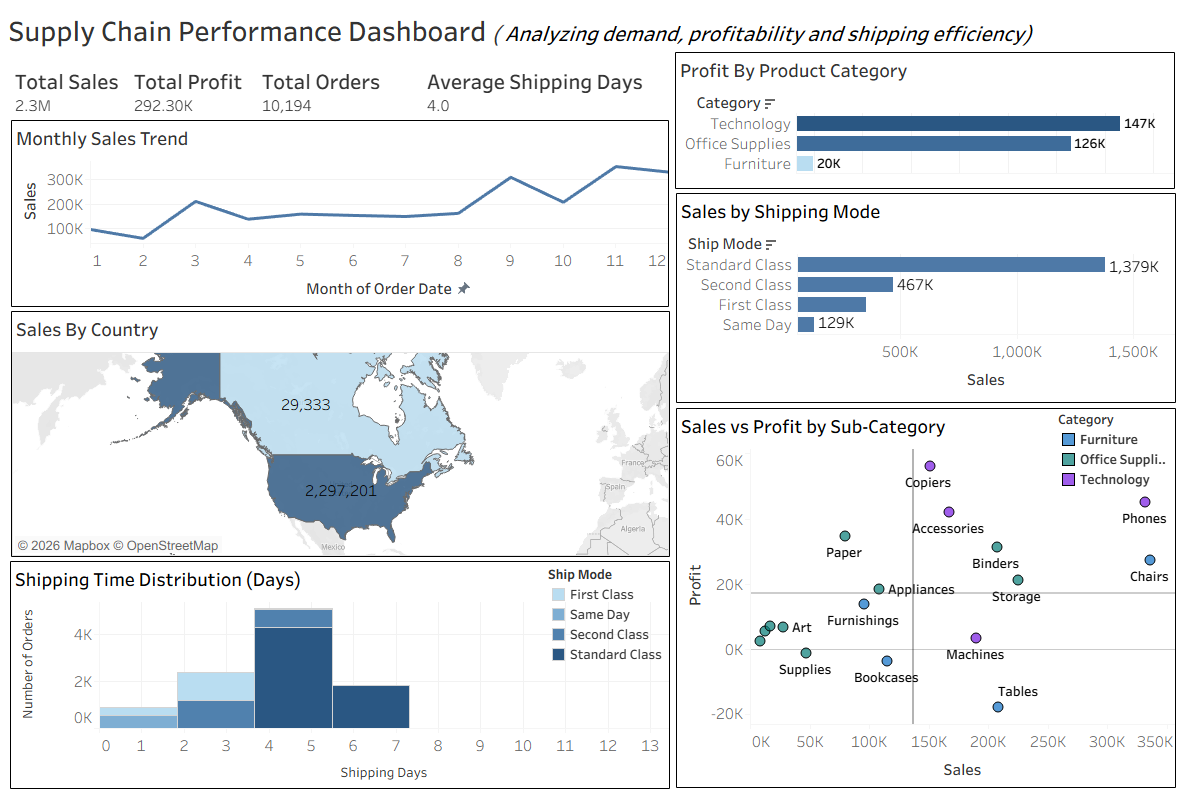

The page's visual inventory and layout, read from the dashboard file:
{"tool":"tableau","page":{"name":"Main Dashboard","canvas":[1200,800],"ordinal":0},"visuals":[{"type":"title","box":[8,8,1184,46]},{"type":"worksheet","title":"KPI – Total Sales","mark":"Automatic","box":[18,53,122,67]},{"type":"worksheet","title":"KPI – Total Profit","mark":"Automatic","box":[137,53,124,67]},{"type":"worksheet","title":"KPI – Total Orders","mark":"Automatic","box":[265,53,152,67]},{"type":"worksheet","title":"KPI – Avg Shipping Days","mark":"Automatic","box":[430,53,245,67]},{"type":"worksheet","title":"Profit By Category","mark":"Bar","rows":["Category"],"cols":["Profit"],"box":[682,53,500,137]},{"type":"worksheet","title":"Sales Trend","mark":"Automatic","rows":["Sales"],"cols":["Order Date"],"box":[18,121,658,187]},{"type":"worksheet","title":"Shipping Mode Performance","mark":"Bar","rows":["Ship Mode"],"cols":["Sales"],"box":[683,194,500,210]},{"type":"worksheet","title":"Sales By Region","mark":"Automatic","box":[18,312,659,246]},{"type":"worksheet","title":"Sales vs Profit by sub-category","mark":"Circle","rows":["Profit"],"cols":["Sales"],"box":[683,409,500,380]},{"type":"legend","title":"Sales vs Profit by sub-category","param":"[federated.0ecmmns1g47oma0zqd47f1kr7kuh].[none:Category:nk]","box":[1065,411,115,81]},{"type":"worksheet","title":"Shipping Time Distribution","mark":"Automatic","rows":["Orders_A70F1973F0C84B12B2E76D6F82C17F64"],"cols":["ShippingDaysCalc (bin)"],"box":[17,562,660,228]},{"type":"legend","title":"Shipping Time Distribution","param":"[federated.0ecmmns1g47oma0zqd47f1kr7kuh].[none:Ship Mode:nk]","box":[555,566,118,107]}]}

Visuals, with their boxes in screenshot pixels (x1, y1, x2, y2), scaled from the page's 1200x800 canvas onto the 1185x797 screenshot:
title: <bbox>8, 8, 1177, 54</bbox>
"KPI – Total Sales" worksheet: <bbox>18, 53, 138, 120</bbox>
"KPI – Total Profit" worksheet: <bbox>135, 53, 258, 120</bbox>
"KPI – Total Orders" worksheet: <bbox>262, 53, 412, 120</bbox>
"KPI – Avg Shipping Days" worksheet: <bbox>425, 53, 667, 120</bbox>
"Profit By Category" worksheet (Bar marks): <bbox>673, 53, 1167, 189</bbox>
"Sales Trend" worksheet: <bbox>18, 121, 668, 307</bbox>
"Shipping Mode Performance" worksheet (Bar marks): <bbox>674, 193, 1168, 402</bbox>
"Sales By Region" worksheet: <bbox>18, 311, 669, 556</bbox>
"Sales vs Profit by sub-category" worksheet (Circle marks): <bbox>674, 407, 1168, 786</bbox>
"Sales vs Profit by sub-category" legend: <bbox>1052, 409, 1165, 490</bbox>
"Shipping Time Distribution" worksheet: <bbox>17, 560, 669, 787</bbox>
"Shipping Time Distribution" legend: <bbox>548, 564, 665, 670</bbox>
